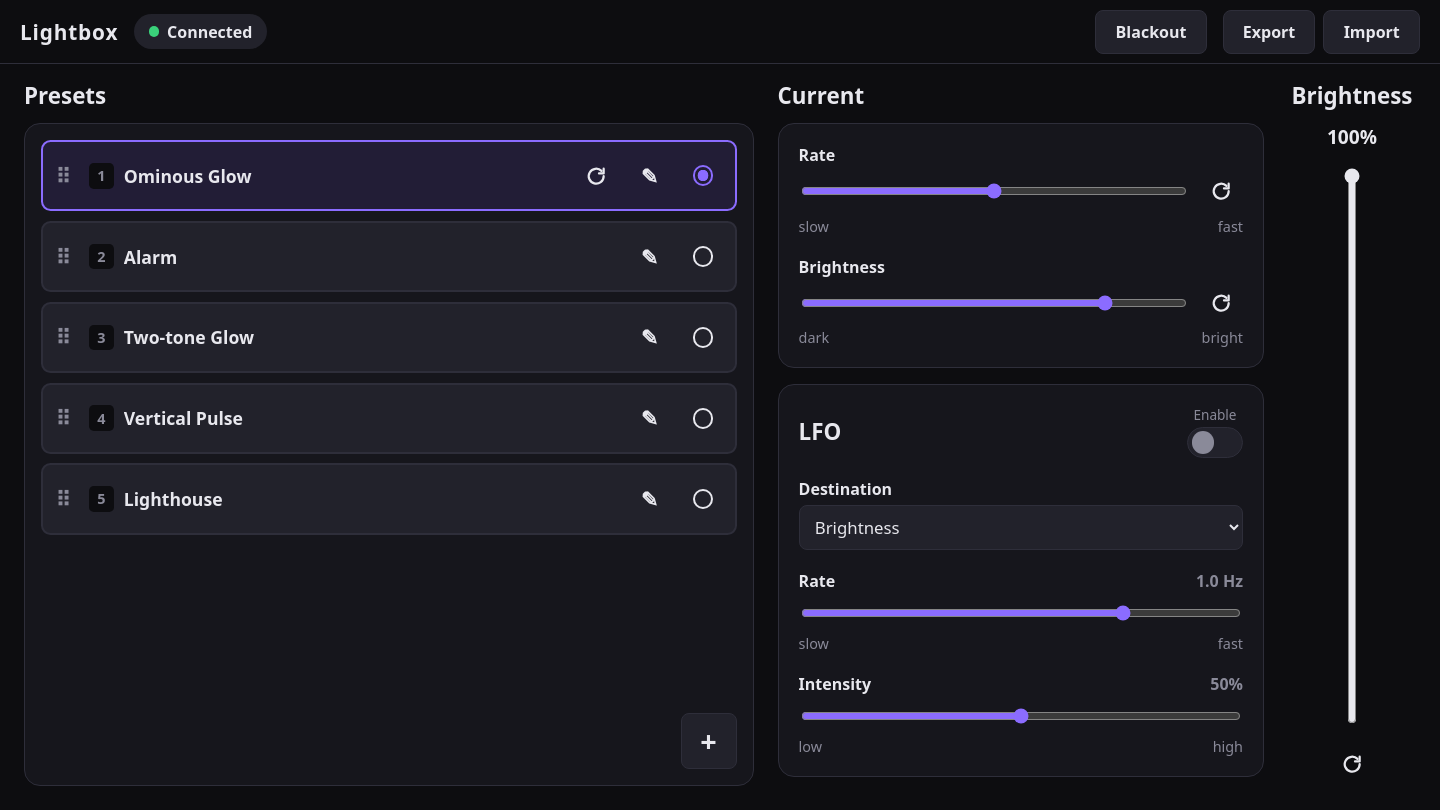
App › shows the blackout indicator and darkens the board
Click the button "Blackout" at [1151, 32], box top-left (1095, 10), bottom-right (1207, 54)
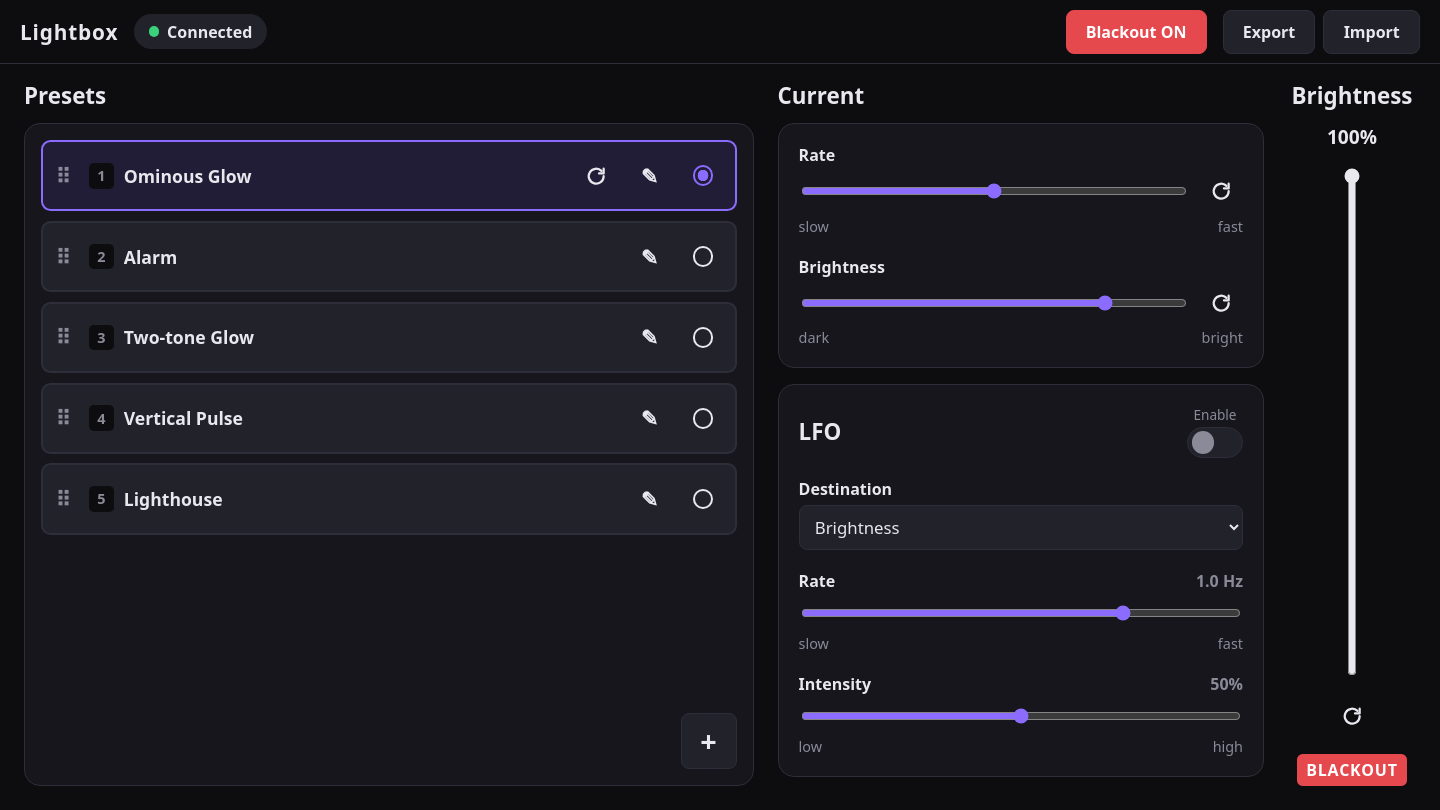
Result: the message "Blackout" is shown at top-left (1297, 754), bottom-right (1407, 786)
Result: the button "Blackout ON" is shown at top-left (1066, 10), bottom-right (1207, 54)
